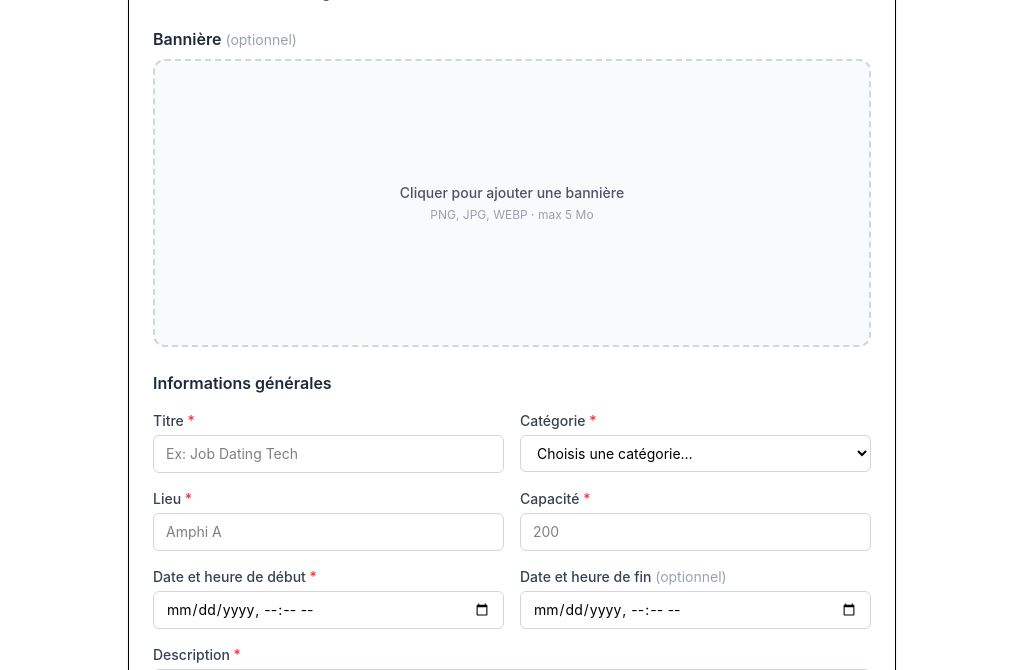
Scenario: EventCreatePage › displays error when capacity is missing
In the field with placeholder "Ex: Job Dating Tech": (328, 454) left=153, top=435, right=504, bottom=473, type "Test Event"
(page scrolled)
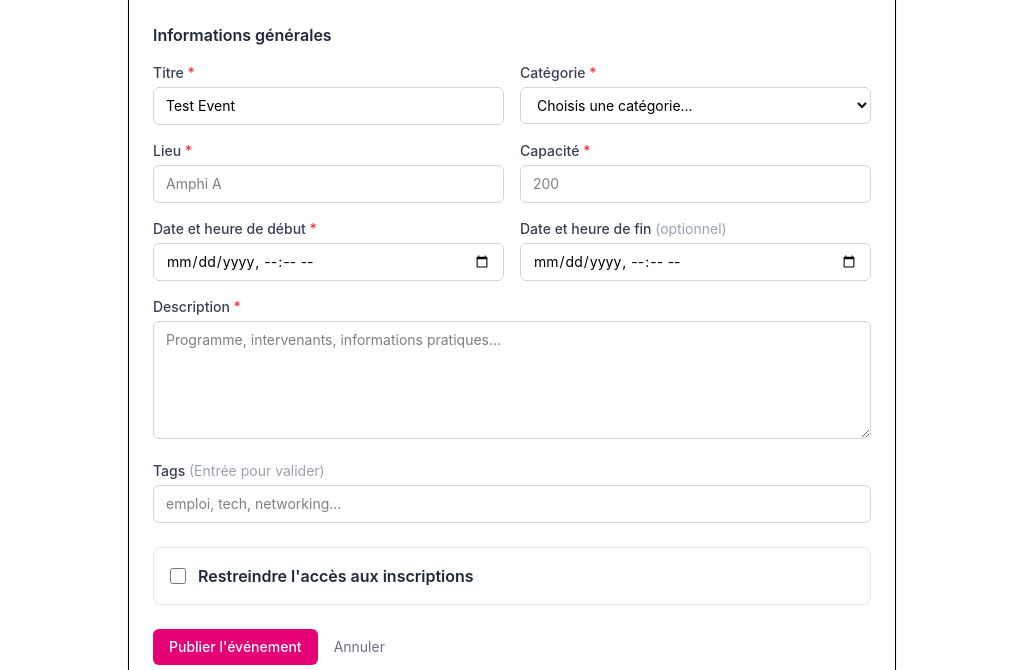
Click the button "Publier l'événement": (235, 647) left=153, top=629, right=318, bottom=665
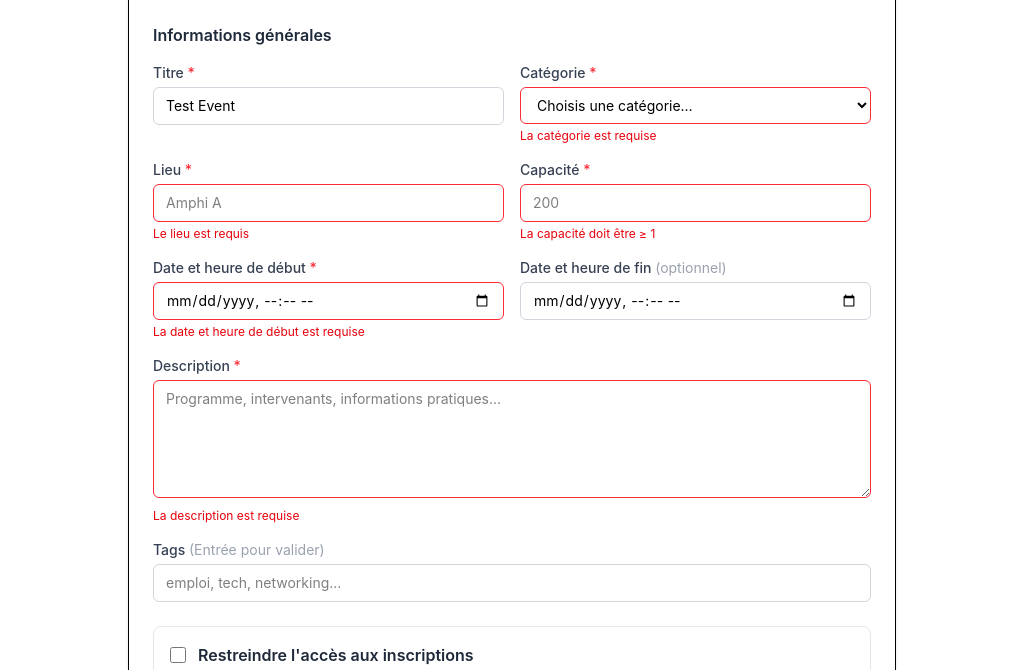
Result: the text "La capacité doit être ≥ 1" is shown at left=520, top=226, right=655, bottom=241
